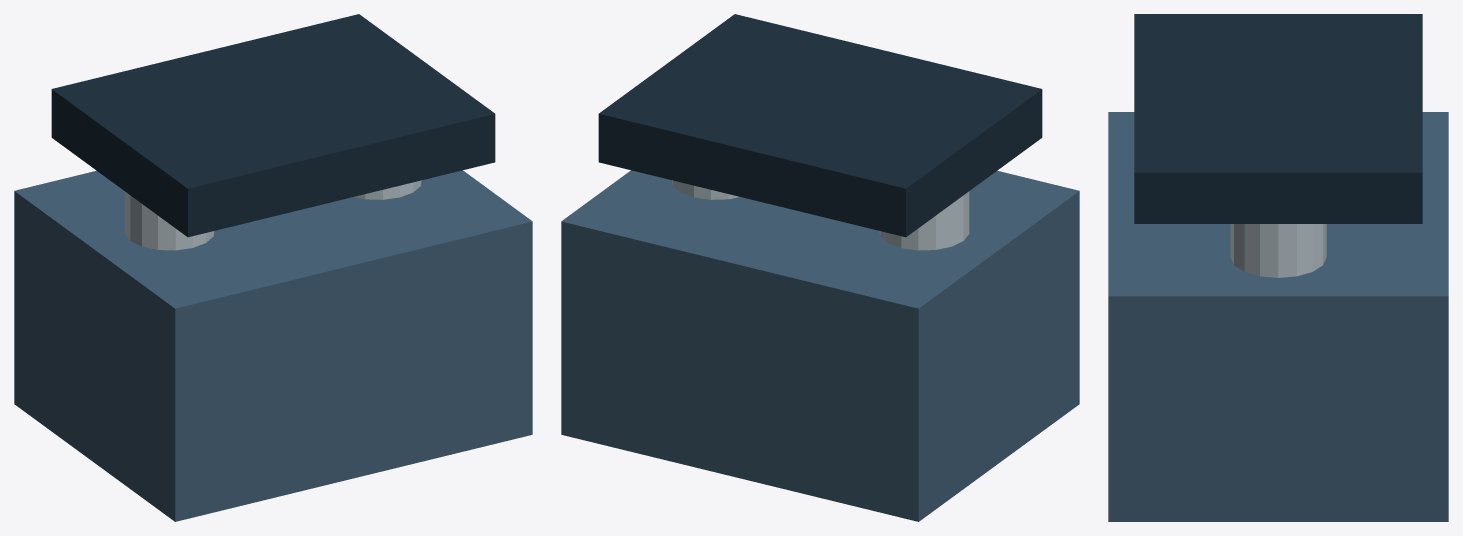
The model's file is 12_L77_BulkCarrierVerticalActuator.fbx.
The picture shows the model from 3 angles, left to right: view 1: azimuth 30°, elevation 25°; view 2: azimuth 150°, elevation 25°; view 3: azimuth 270°, elevation 25°; orthographic projection. The views are drawn at different scales.
Parts seen in each view (by area): view 1: BulkCarrierVerticalActuator_Part_0000, BulkCarrierVerticalActuator_Part_0003, BulkCarrierVerticalActuator_Part_0001, BulkCarrierVerticalActuator_Part_0002; view 2: BulkCarrierVerticalActuator_Part_0000, BulkCarrierVerticalActuator_Part_0003, BulkCarrierVerticalActuator_Part_0001, BulkCarrierVerticalActuator_Part_0002; view 3: BulkCarrierVerticalActuator_Part_0000, BulkCarrierVerticalActuator_Part_0003, BulkCarrierVerticalActuator_Part_0002.
Part boxes in pixels (x1,y1,x2,y2): BulkCarrierVerticalActuator_Part_0000: (14,170,532,521); BulkCarrierVerticalActuator_Part_0003: (51,14,495,237); BulkCarrierVerticalActuator_Part_0001: (124,191,214,250); BulkCarrierVerticalActuator_Part_0002: (354,180,421,199); BulkCarrierVerticalActuator_Part_0000: (561,170,1079,521); BulkCarrierVerticalActuator_Part_0003: (598,14,1042,237); BulkCarrierVerticalActuator_Part_0001: (879,191,969,250); BulkCarrierVerticalActuator_Part_0002: (672,180,739,199); BulkCarrierVerticalActuator_Part_0000: (1108,112,1448,521); BulkCarrierVerticalActuator_Part_0003: (1134,14,1422,223); BulkCarrierVerticalActuator_Part_0002: (1230,224,1326,277).
Size of the model in its own units: 100 by 85 by 78.
